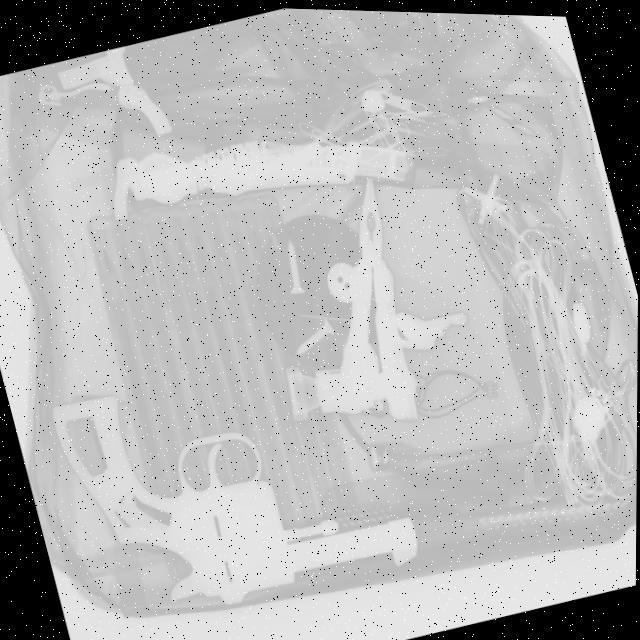pistol: (49, 321, 425, 639)
